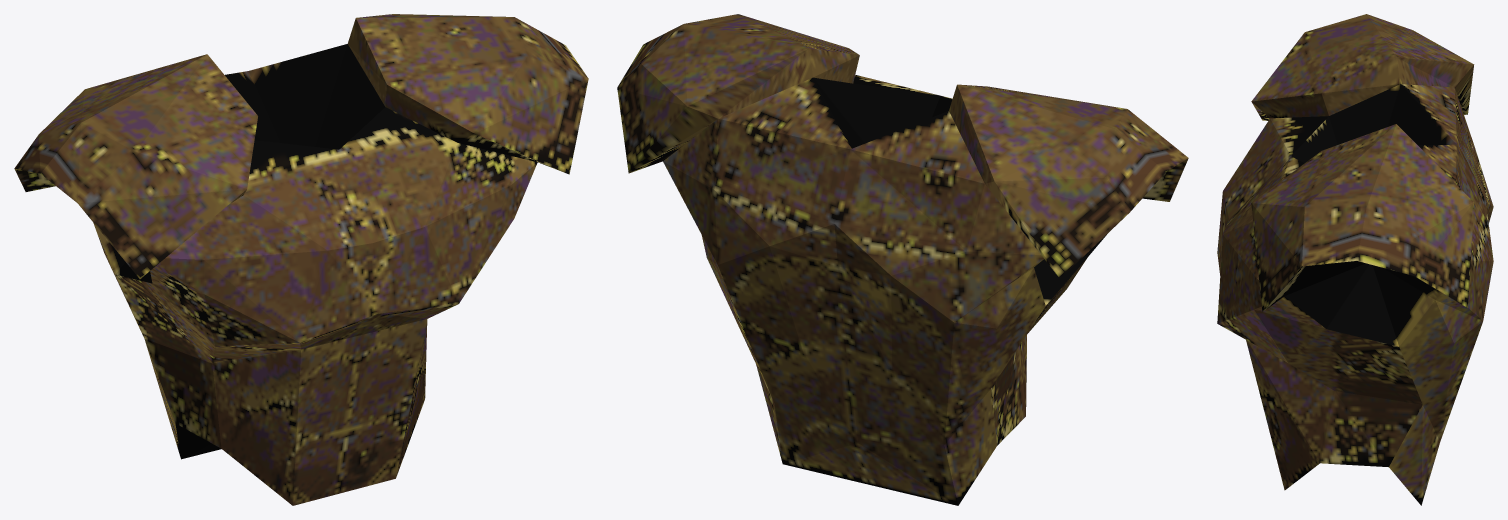
File: armor2.gltf
The picture shows the model from 3 angles, left to right: view 1: azimuth 30°, elevation 25°; view 2: azimuth 150°, elevation 25°; view 3: azimuth 270°, elevation 25°; orthographic projection. The views are drawn at different scales.
Parts seen in each view (by area): view 1: armor2; view 2: armor2; view 3: armor2.
Part boxes in pixels (box(x1,y1,x2,y2)): armor2: box(14, 14, 588, 505); armor2: box(617, 14, 1188, 505); armor2: box(1217, 14, 1493, 505).
Size of the model in its own units: 0.62 by 0.465 by 0.3085.
1 material, 1 textured.
